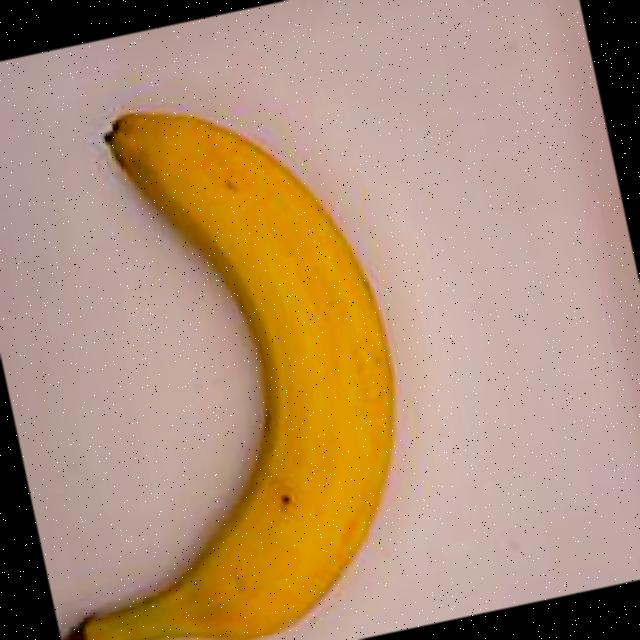Ripe: (0, 31, 498, 640)
